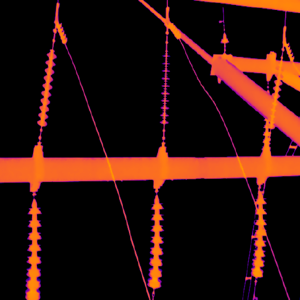insulator: (36, 50, 56, 128), (24, 199, 39, 300), (266, 55, 286, 126), (251, 190, 266, 279), (148, 195, 162, 288), (160, 38, 167, 134), (282, 39, 294, 65), (262, 115, 270, 150), (167, 21, 181, 38), (56, 21, 66, 44)
